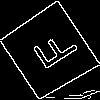F: (24, 26, 80, 77)
